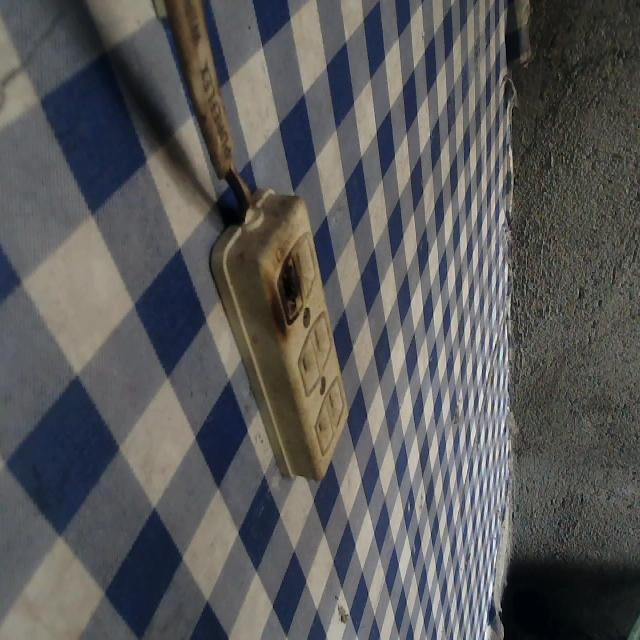-: (271, 249, 309, 324)
